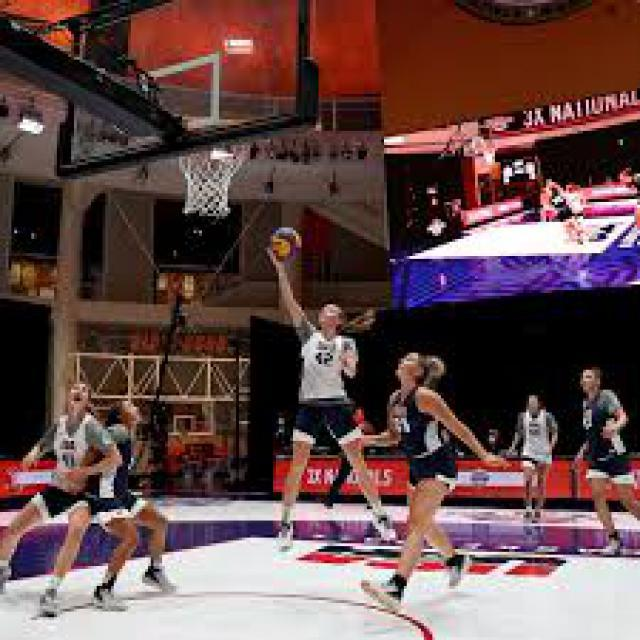basketball: (268, 227, 302, 259)
